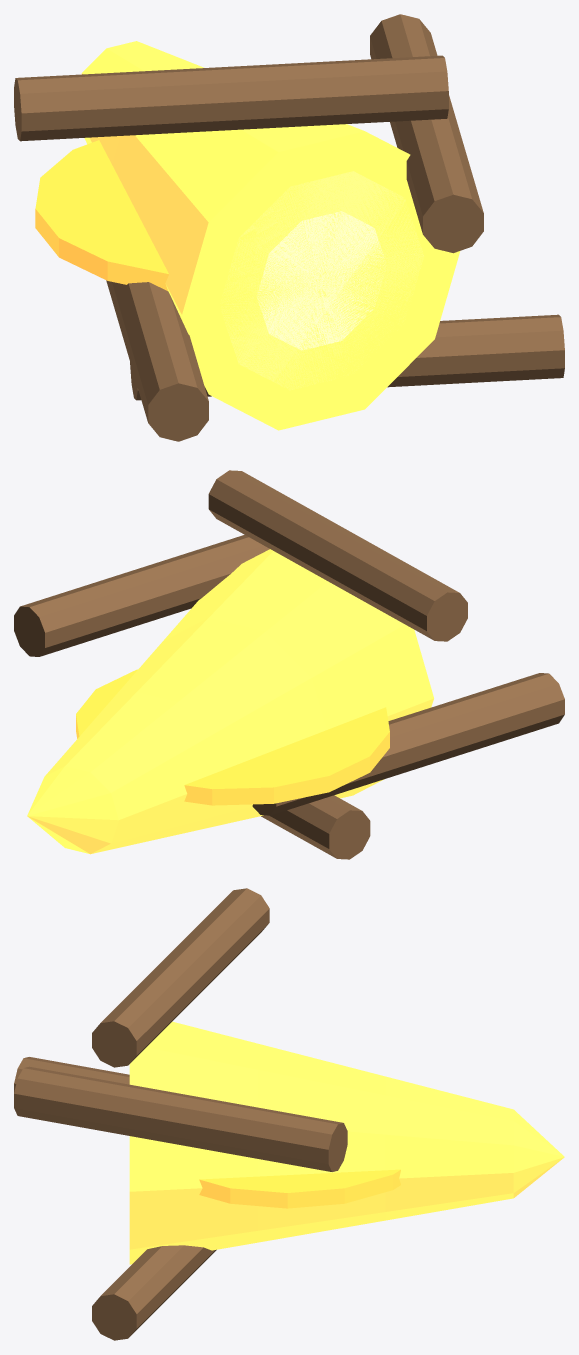
The model's file is campfire.glb.
The picture shows the model from 3 angles, top to bottom: view 1: azimuth 30°, elevation 25°; view 2: azimuth 150°, elevation 25°; view 3: azimuth 270°, elevation 25°; orthographic projection. The views are drawn at different scales.
Visible parts, largest first — view 1: Campfire_Flame_Outer, Campfire_Log_2, Campfire_Flame_Mid, Campfire_Flame_Inner, Campfire_Base, Campfire_Log_1, Campfire_Log_3, Campfire_Log_4; view 2: Campfire_Flame_Outer, Campfire_Log_2, Campfire_Log_1, Campfire_Base, Campfire_Log_3, Campfire_Log_4; view 3: Campfire_Flame_Outer, Campfire_Log_1, Campfire_Log_2, Campfire_Log_4, Campfire_Base, Campfire_Log_3.
Part boxes in pixels (x1=…): Campfire_Flame_Outer: x1=81, y1=41, x2=460, y2=430; Campfire_Log_2: x1=14, y1=55, x2=448, y2=141; Campfire_Flame_Mid: x1=220, y1=171, x2=423, y2=390; Campfire_Flame_Inner: x1=257, y1=211, x2=385, y2=350; Campfire_Base: x1=35, y1=140, x2=168, y2=290; Campfire_Log_1: x1=370, y1=14, x2=483, y2=253; Campfire_Log_3: x1=106, y1=280, x2=208, y2=441; Campfire_Log_4: x1=130, y1=314, x2=564, y2=400; Campfire_Flame_Outer: x1=27, y1=549, x2=433, y2=854; Campfire_Log_2: x1=208, y1=470, x2=467, y2=641; Campfire_Log_1: x1=14, y1=535, x2=269, y2=656; Campfire_Base: x1=76, y1=669, x2=389, y2=805; Campfire_Log_3: x1=252, y1=673, x2=564, y2=815; Campfire_Log_4: x1=261, y1=795, x2=370, y2=859; Campfire_Flame_Outer: x1=129, y1=1021, x2=564, y2=1264; Campfire_Log_1: x1=14, y1=1066, x2=347, y2=1171; Campfire_Log_2: x1=92, y1=888, x2=269, y2=1067; Campfire_Log_4: x1=92, y1=1245, x2=216, y2=1340; Campfire_Base: x1=199, y1=1169, x2=400, y2=1208; Campfire_Log_3: x1=14, y1=1057, x2=129, y2=1092.
Bounding box in the file's own units: 1.03 × 0.7095 × 1.29.
